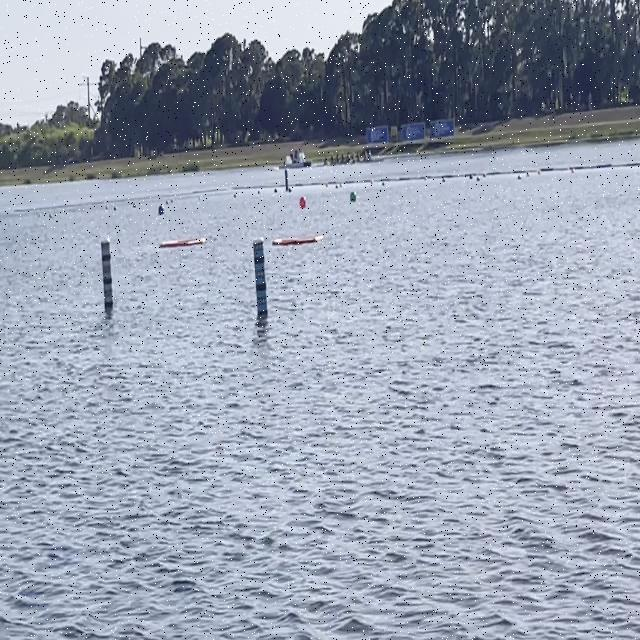buoy: (299, 193, 307, 209), (350, 190, 358, 203), (158, 202, 164, 215)
